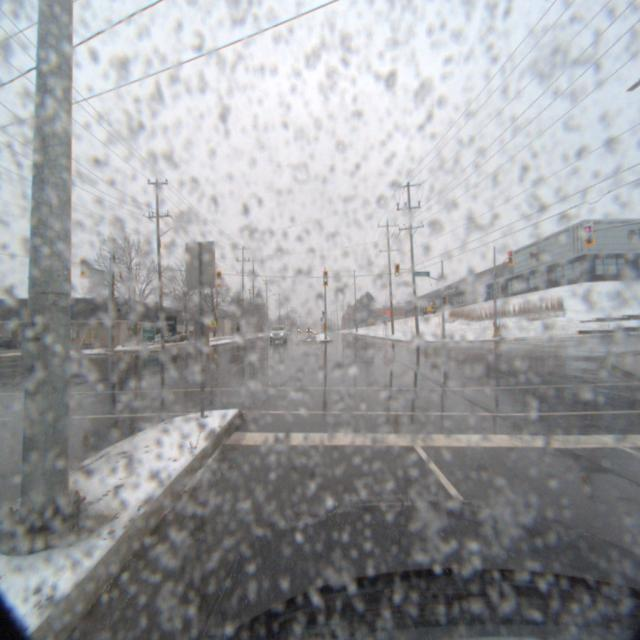Car: (270, 324, 292, 341)
